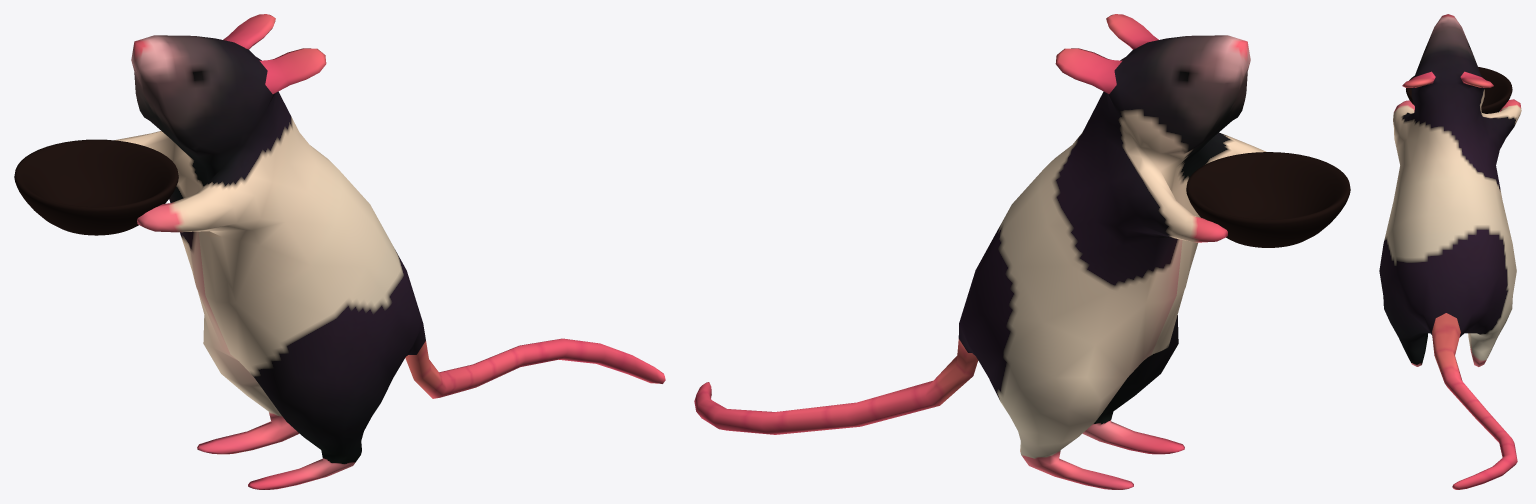
The model's file is mouse.obj.
3 renders of one model, left to right at view 1: azimuth 30°, elevation 25°; view 2: azimuth 150°, elevation 25°; view 3: azimuth 270°, elevation 25°, orthographic. The views are drawn at different scales.
Parts seen in each view (by area): view 1: mouse_Material.002, ciotola_ciotola; view 2: mouse_Material.002, ciotola_ciotola; view 3: mouse_Material.002, ciotola_ciotola.
Part boxes in pixels (bbox=[...]): mouse_Material.002: bbox=[115, 14, 665, 489]; ciotola_ciotola: bbox=[14, 139, 178, 235]; mouse_Material.002: bbox=[694, 14, 1266, 489]; ciotola_ciotola: bbox=[1186, 152, 1350, 247]; mouse_Material.002: bbox=[1379, 14, 1521, 489]; ciotola_ciotola: bbox=[1406, 67, 1512, 113].
Bounding box in the file's own units: 1.29 × 0.925 × 0.3852.
